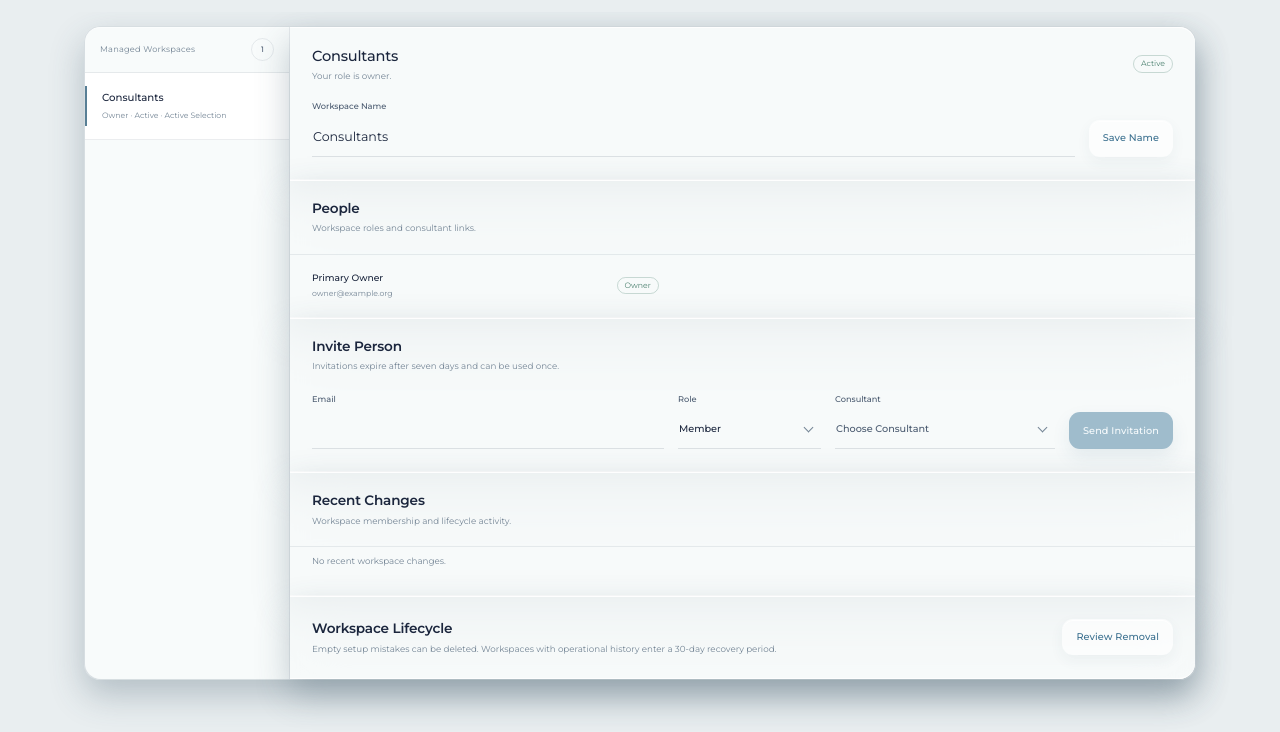
it: workspace management › shows the immediate-delete impact for an empty setup workspace
(page scrolled)
Click the button "Review Removal": coordinates (1118, 637) [1062,619,1173,655]
(page scrolled)
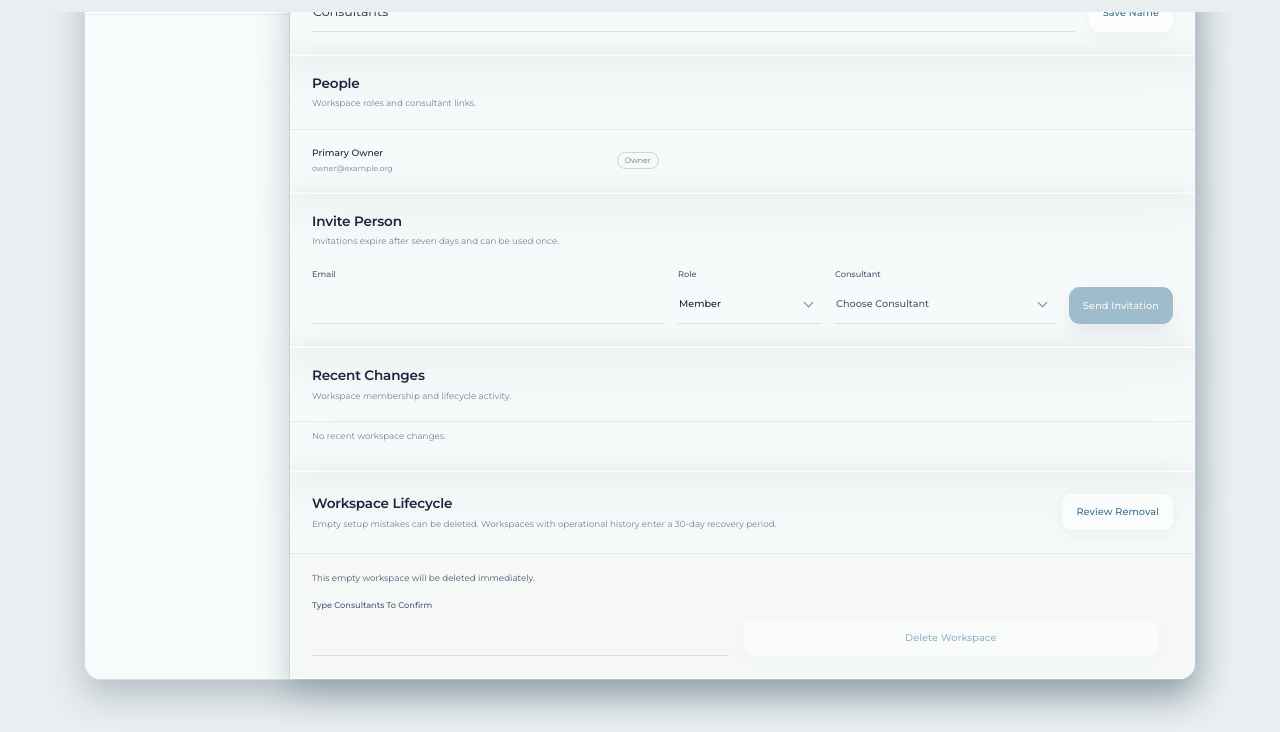
Check: the text "This empty workspace will be deleted immediately." is shown, box [312,573,535,583]
Check: the button "Delete Workspace" is disabled, box [742,619,1159,656]
